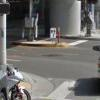Motorcycle: (2, 68, 36, 100)
